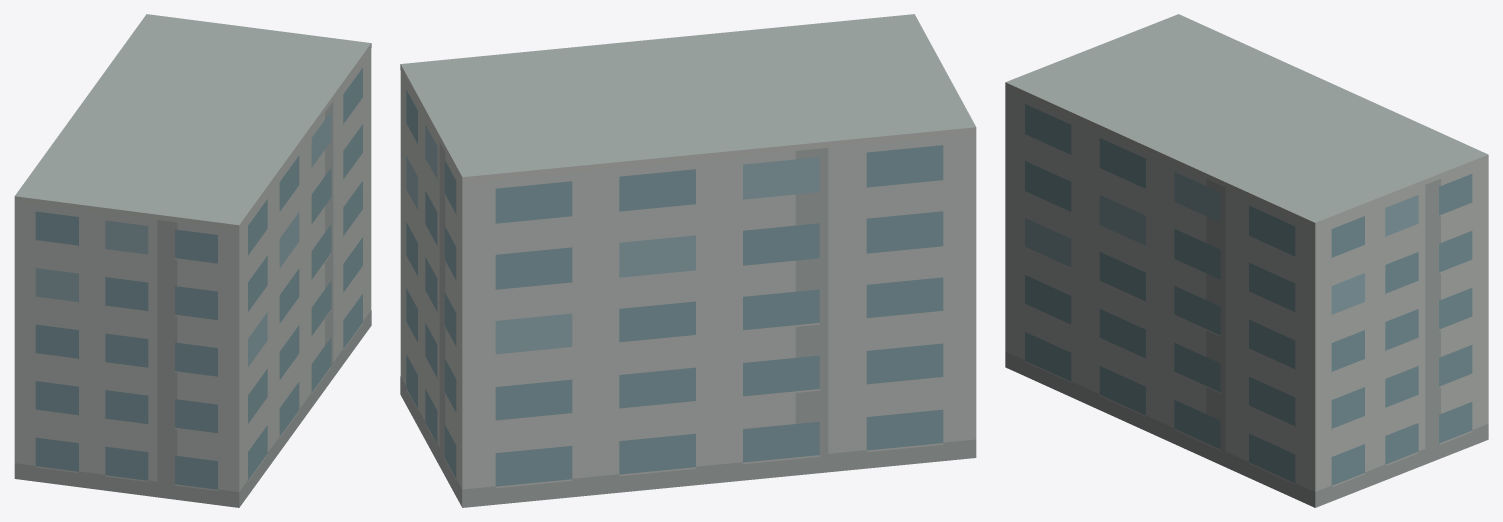
File: residential-0eb19ddb-72f1-4638-9666-03a73ee277f9.glb
The picture shows the model from 3 angles, left to right: view 1: azimuth 30°, elevation 25°; view 2: azimuth 150°, elevation 25°; view 3: azimuth 270°, elevation 25°; orthographic projection. The views are drawn at different scales.
Parts seen in each view (by area): view 1: residential-0eb19ddb-72f1-4638-9666-03a73ee277f9.tmp; view 2: residential-0eb19ddb-72f1-4638-9666-03a73ee277f9.tmp; view 3: residential-0eb19ddb-72f1-4638-9666-03a73ee277f9.tmp.
Boxes of the visible parts, x1=… form: residential-0eb19ddb-72f1-4638-9666-03a73ee277f9.tmp: x1=14, y1=14, x2=371, y2=507; residential-0eb19ddb-72f1-4638-9666-03a73ee277f9.tmp: x1=400, y1=14, x2=976, y2=507; residential-0eb19ddb-72f1-4638-9666-03a73ee277f9.tmp: x1=1005, y1=14, x2=1488, y2=507.
Bounding box in the file's own units: 20.67 × 13.15 × 20.21.
